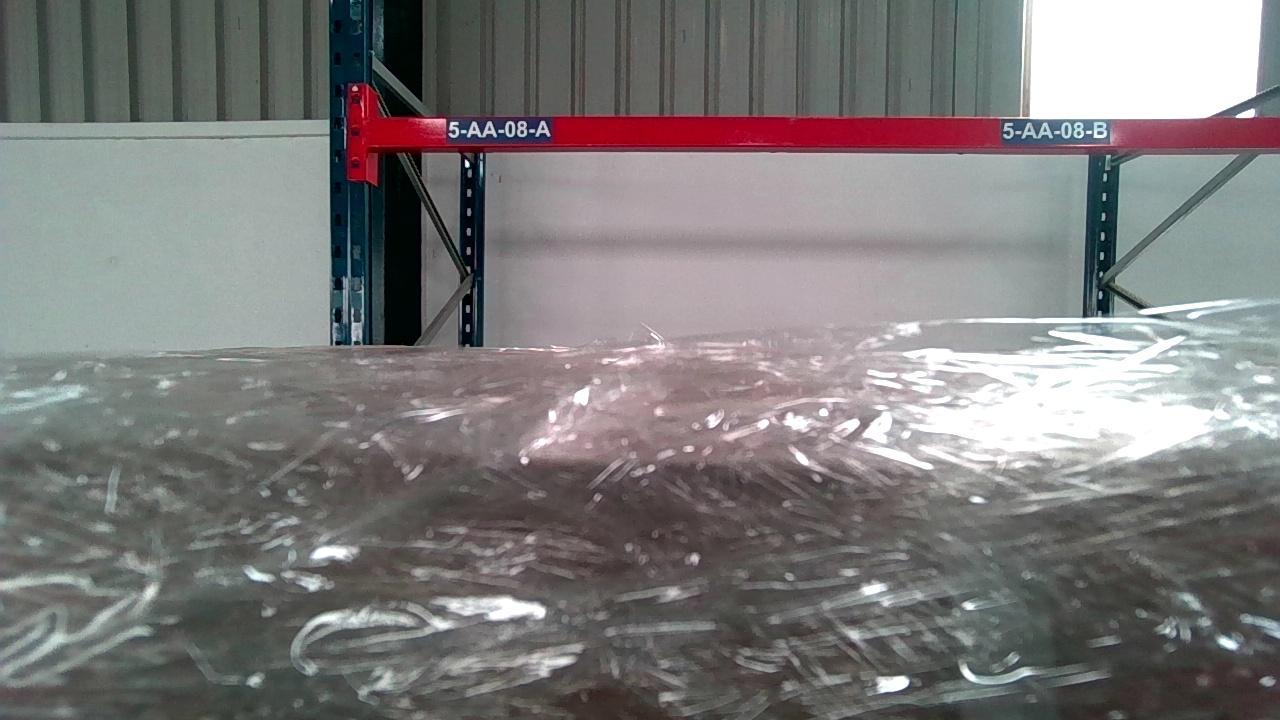h_rack: (366, 114, 1279, 151)
